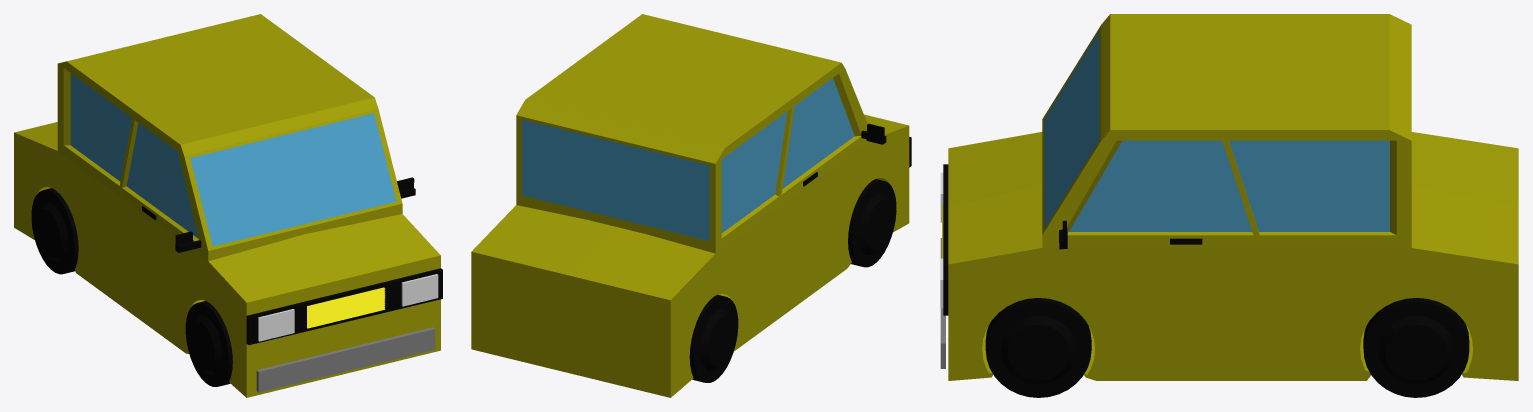
Rendered from NPCcar2_yellow.fbx.
The picture shows the model from 3 angles, left to right: view 1: azimuth 30°, elevation 25°; view 2: azimuth 150°, elevation 25°; view 3: azimuth 270°, elevation 25°; orthographic projection. The views are drawn at different scales.
Parts seen in each view (by area): view 1: car02_yellow; view 2: car02_yellow; view 3: car02_yellow.
Part boxes in pixels (x1,y1,x2,y2): car02_yellow: (14, 14, 442, 397); car02_yellow: (471, 14, 911, 397); car02_yellow: (940, 14, 1518, 397).
Size of the model in its own units: 55.39 by 48.56 by 95.57.
